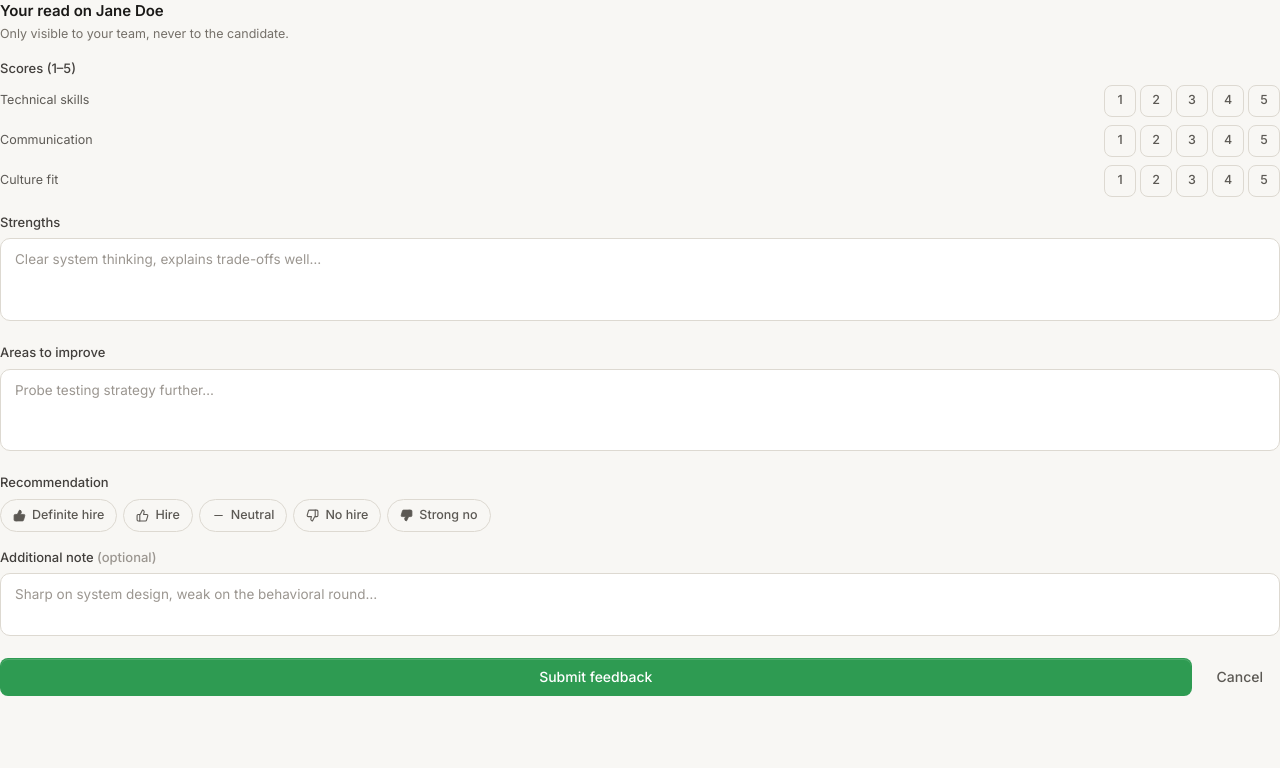
Scenario: ScorecardForm — submission › requires every criterion score and both written fields (PB64 AC2–3)
The width and height of the screenshot is (1280, 768).
Click the button "Neutral" at (243, 515), box [199,499,287,532]
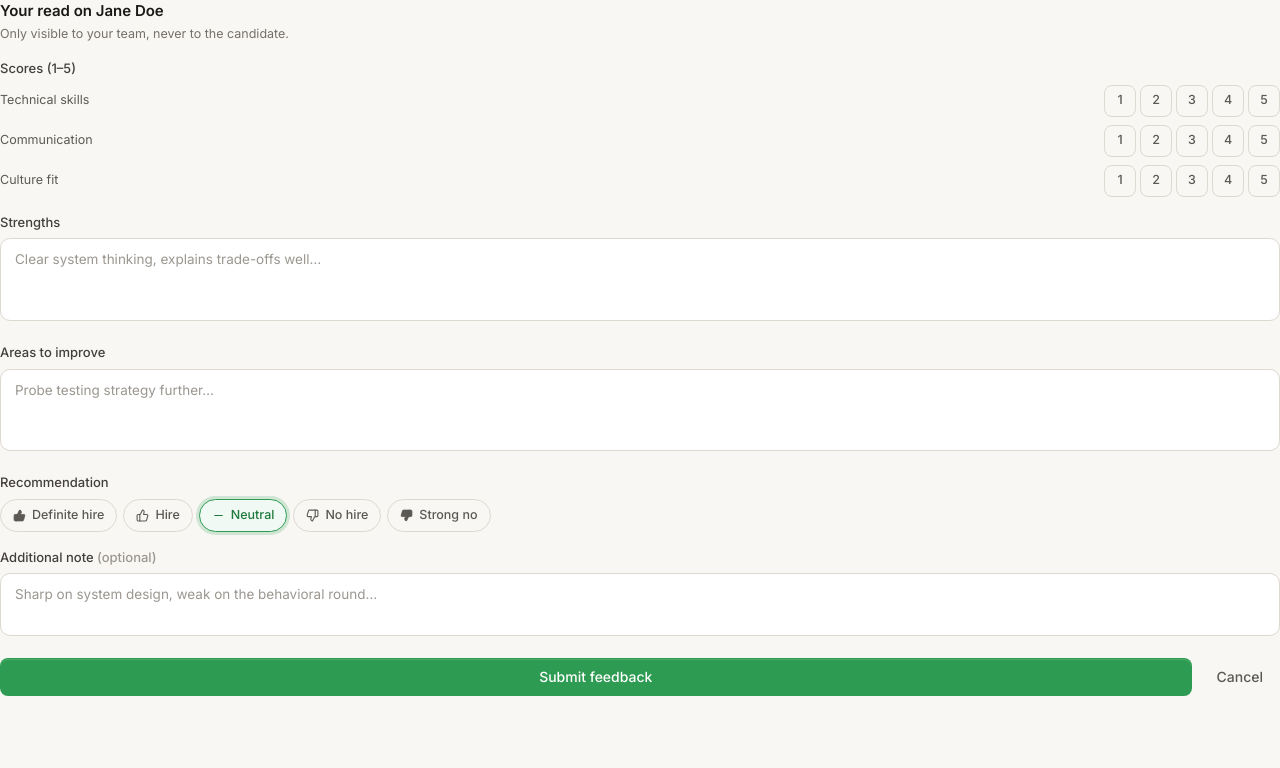
Click the button "Submit feedback" at (596, 676), box [0,658,1192,696]
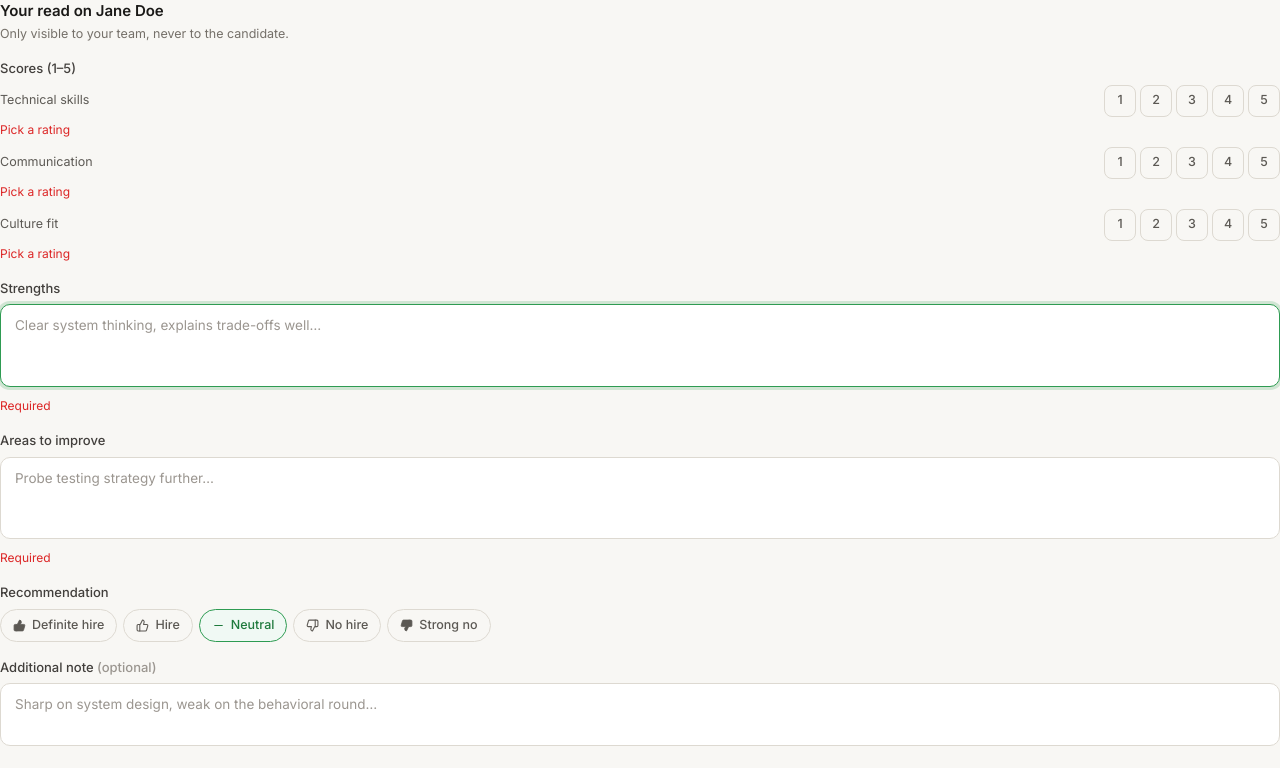
Now the text "Pick a rating" is shown 3 times, box [0,122,70,137]; [0,184,70,199]; [0,246,70,261]
